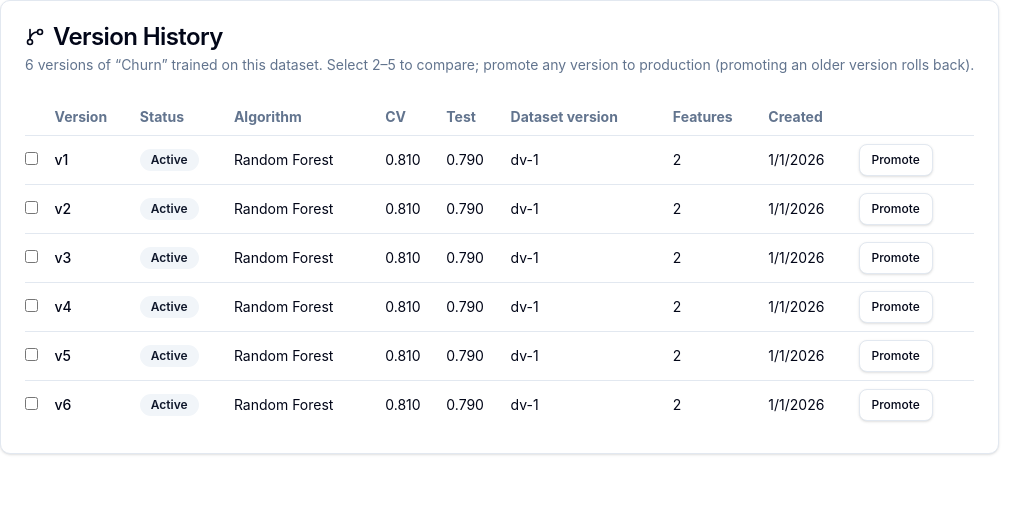
ModelVersions › caps comparison selection at 5 (the /ml/compare limit)
Expected: the heading "Version History" is shown, top-left (25, 22), bottom-right (223, 51)
Click the checkbox named "Select version 1".
click(32, 158)  # box top-left (25, 152), bottom-right (38, 165)
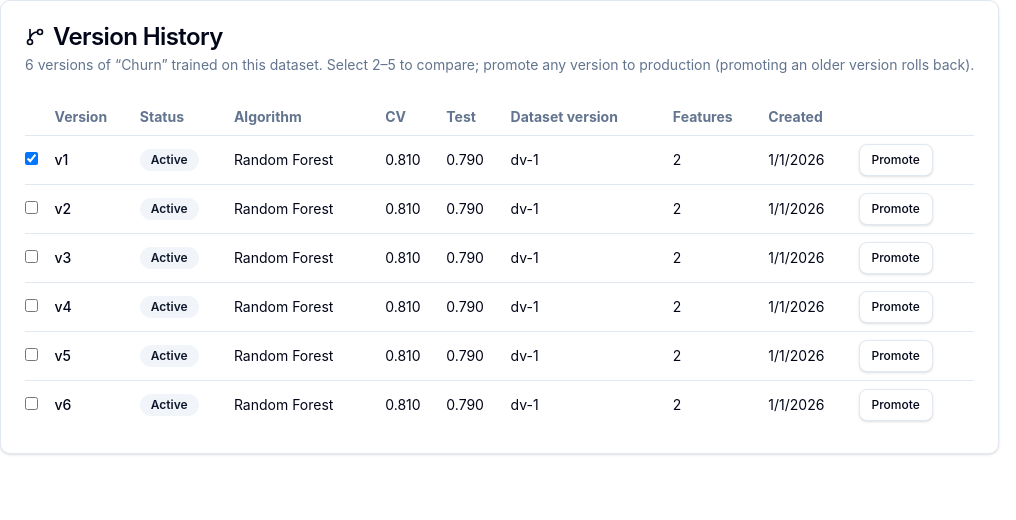
Click the checkbox named "Select version 2".
click(32, 208)  # box top-left (25, 201), bottom-right (38, 214)
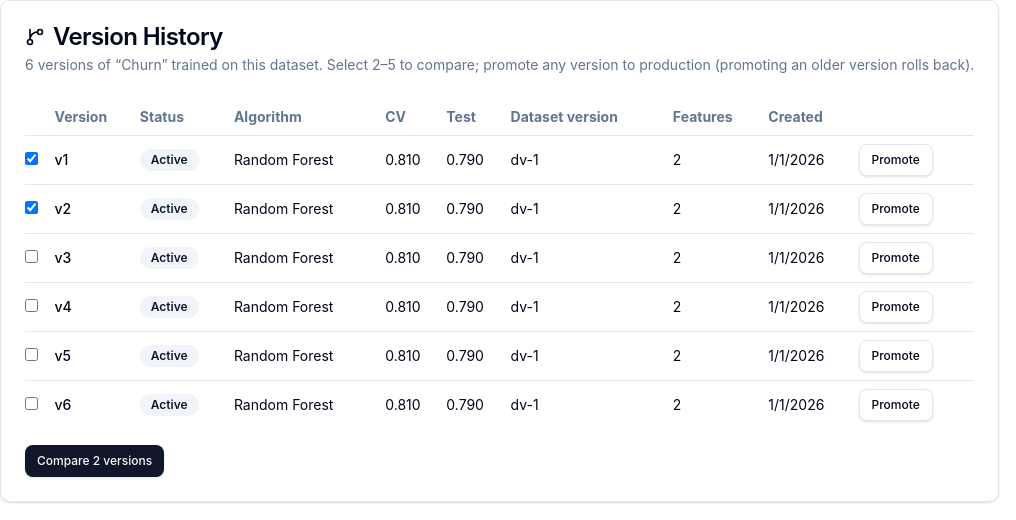
Click the checkbox named "Select version 3".
click(32, 256)  # box top-left (25, 250), bottom-right (38, 263)
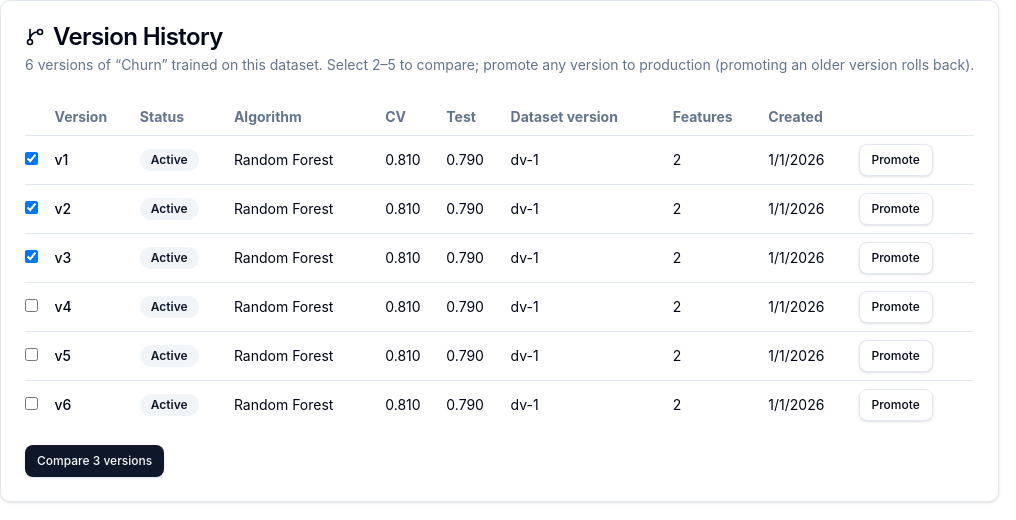
Click the checkbox named "Select version 4".
click(32, 306)  # box top-left (25, 299), bottom-right (38, 312)
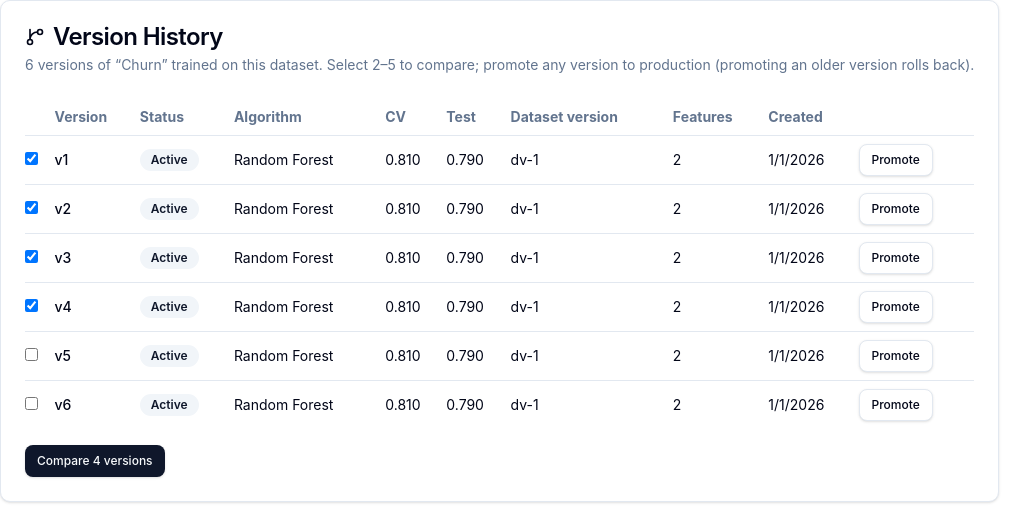
Click the checkbox named "Select version 5".
click(32, 354)  # box top-left (25, 348), bottom-right (38, 361)
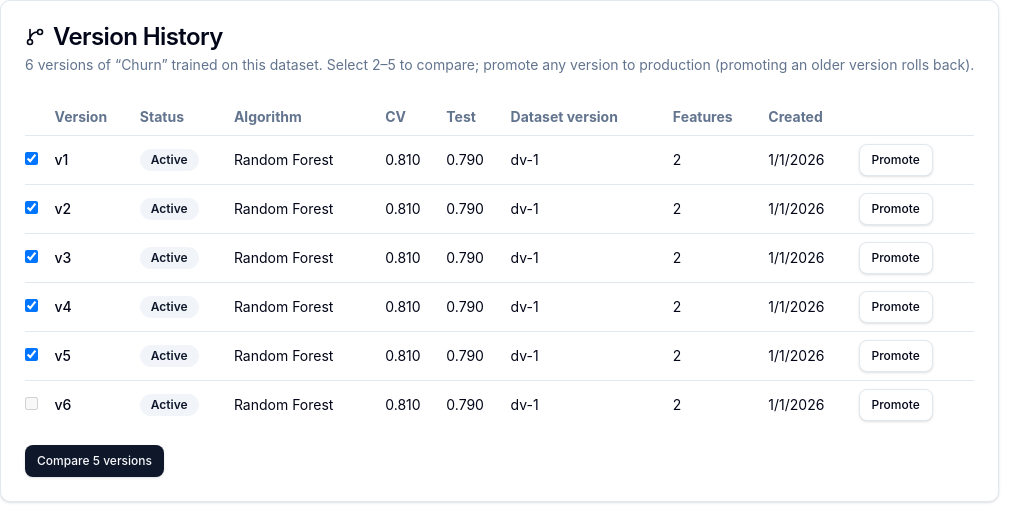
Expected: the checkbox named "Select version 6" is disabled, top-left (25, 397), bottom-right (38, 410)
